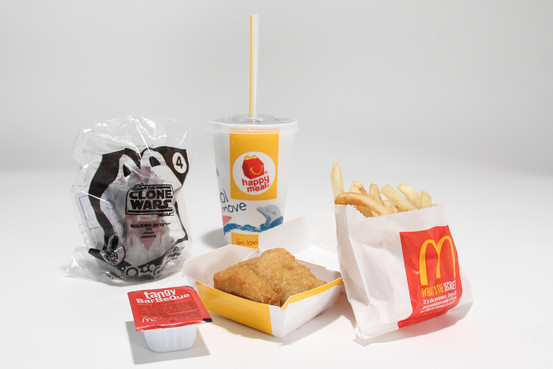mcdonalds: (417, 234, 452, 287), (422, 234, 452, 286)
